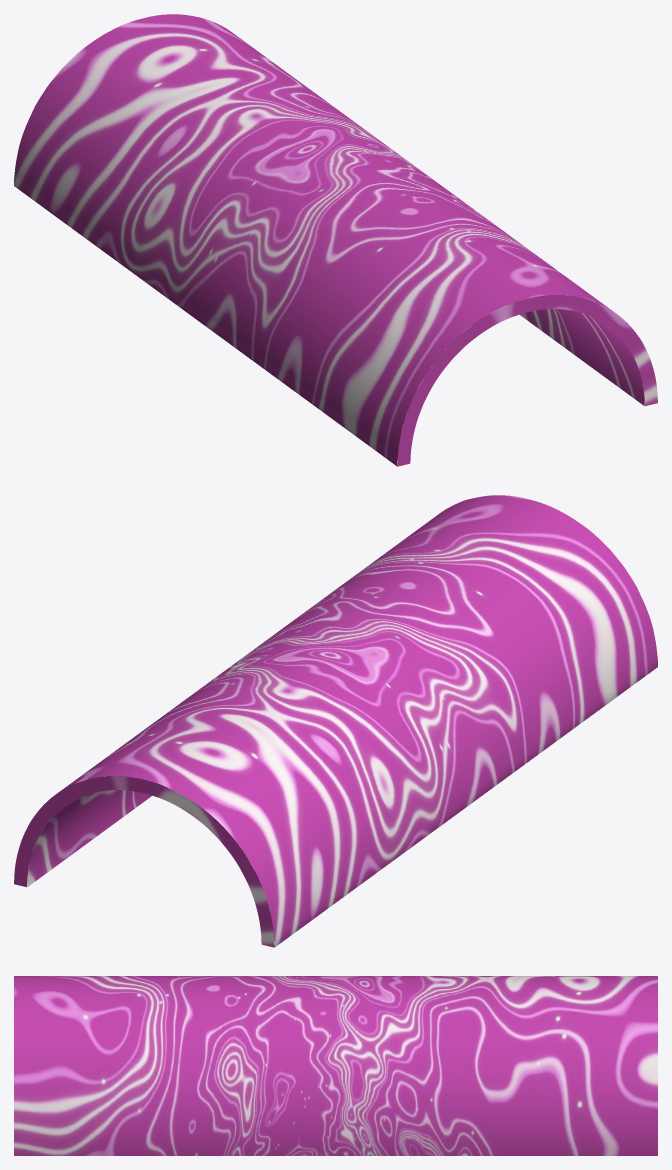
Rendered from arc.glb.
3 renders of one model, top to bottom at view 1: azimuth 30°, elevation 25°; view 2: azimuth 150°, elevation 25°; view 3: azimuth 270°, elevation 25°, orthographic. The views are drawn at different scales.
Visible parts, largest first — view 1: Mesh_12; view 2: Mesh_12; view 3: Mesh_12.
Boxes of the visible parts, x1=… form: Mesh_12: x1=14, y1=14, x2=657, y2=466; Mesh_12: x1=14, y1=495, x2=657, y2=947; Mesh_12: x1=14, y1=976, x2=657, y2=1155.
Bounding box in the file's own units: 2 × 1 × 5.1.
1 material, 1 textured.
